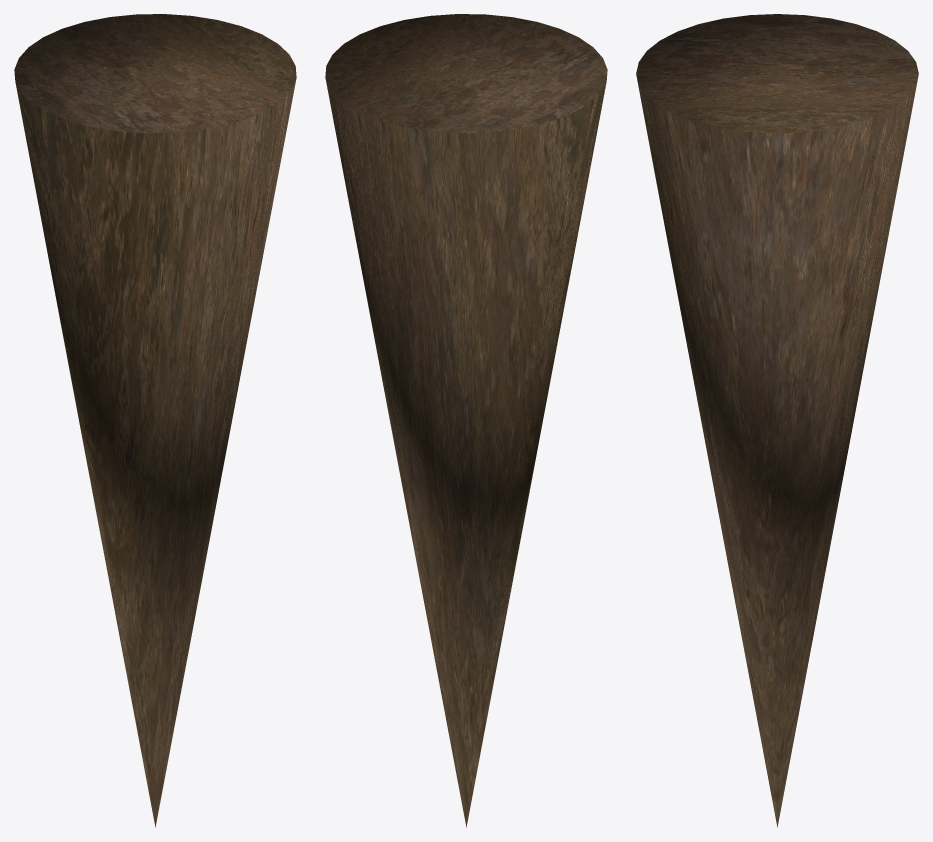
Rendered from Hand-Torch.glb.
The picture shows the model from 3 angles, left to right: view 1: azimuth 30°, elevation 25°; view 2: azimuth 150°, elevation 25°; view 3: azimuth 270°, elevation 25°; orthographic projection.
Parts seen in each view (by area): view 1: Cone; view 2: Cone; view 3: Cone.
Part boxes in pixels (x1,y1,x2,y2): Cone: (14, 14, 296, 827); Cone: (325, 14, 607, 827); Cone: (636, 14, 918, 827).
Bounding box in the file's own units: 0.0761 × 0.2239 × 0.0761.
1 material, 1 textured.
